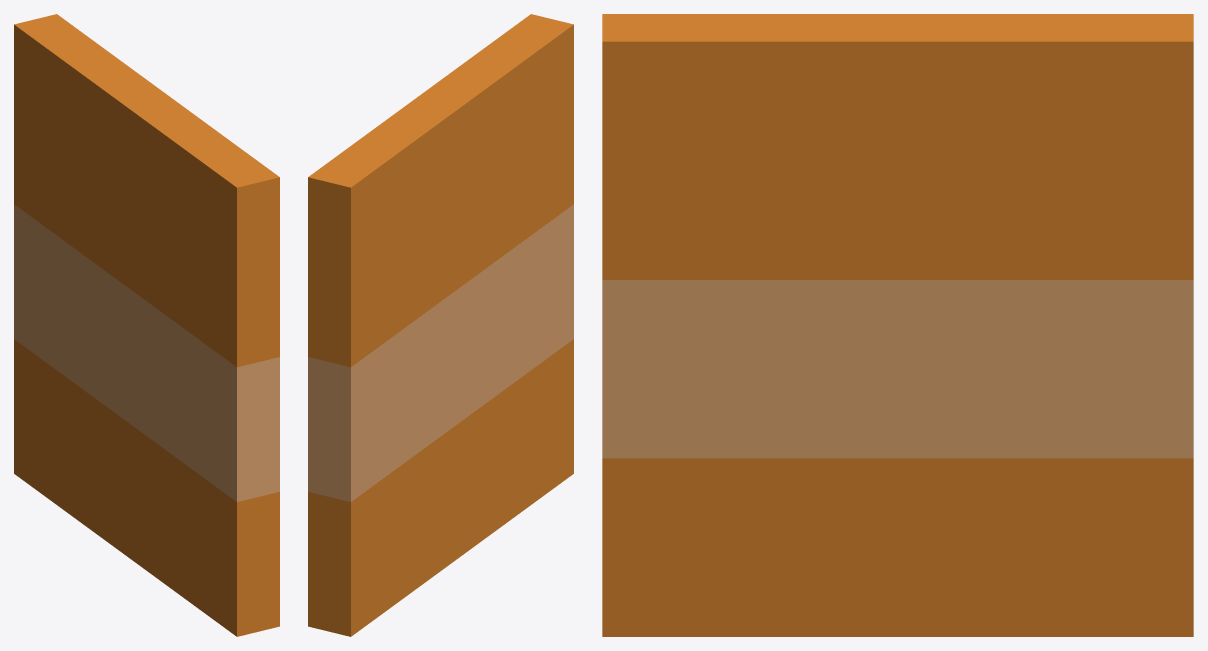
The model's file is dirt_wall_B_9.obj.
3 renders of one model, left to right at view 1: azimuth 30°, elevation 25°; view 2: azimuth 150°, elevation 25°; view 3: azimuth 270°, elevation 25°, orthographic. The views are drawn at different scales.
Size of the model in its own units: 0.1 by 1 by 0.9.
Materials: 1 (1 with a texture image).
